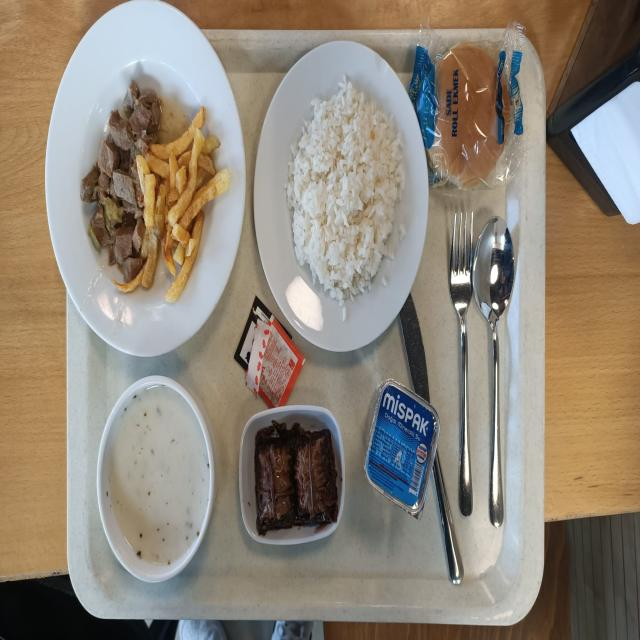ana_yemek: (44, 1, 247, 355), (257, 38, 411, 356)
corba: (96, 375, 215, 581)
yan_yemek: (238, 406, 342, 545)
